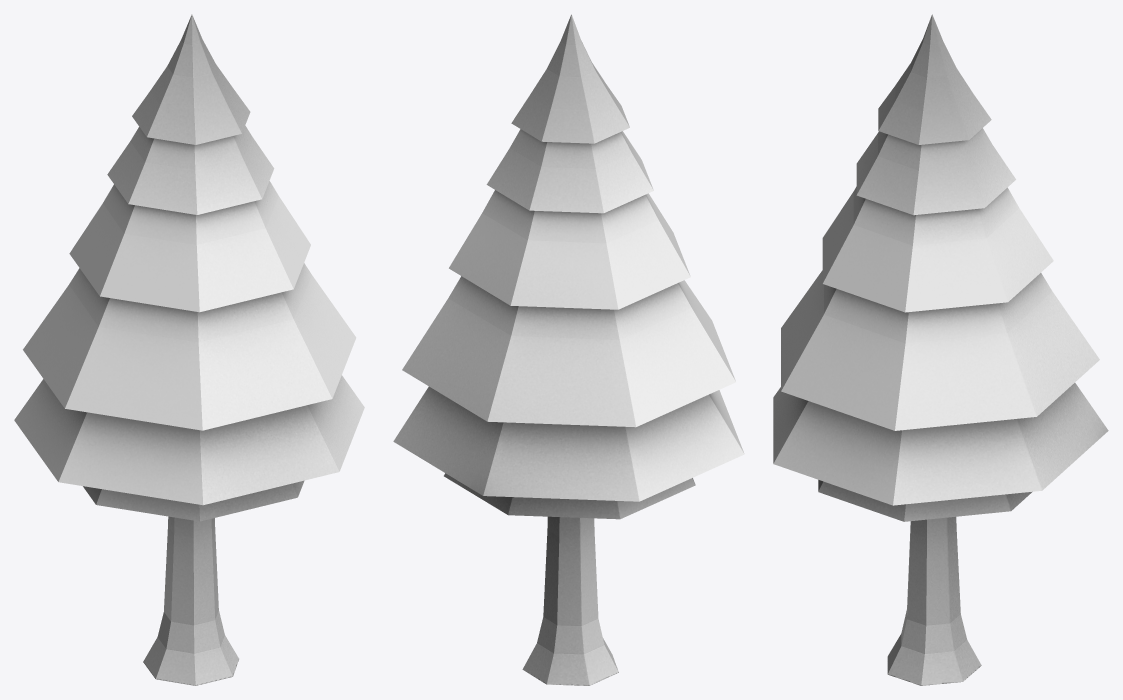
The model's file is Tree 3.fbx.
The picture shows the model from 3 angles, left to right: view 1: azimuth 30°, elevation 25°; view 2: azimuth 150°, elevation 25°; view 3: azimuth 270°, elevation 25°; orthographic projection.
Visible parts, largest first — view 1: Cylinder.006; view 2: Cylinder.006; view 3: Cylinder.006.
Part boxes in pixels (x1,y1,x2,y2): Cylinder.006: (14,14,364,685); Cylinder.006: (393,14,744,685); Cylinder.006: (773,14,1108,685).
Bounding box in the file's own units: 838 × 1702 × 794.
